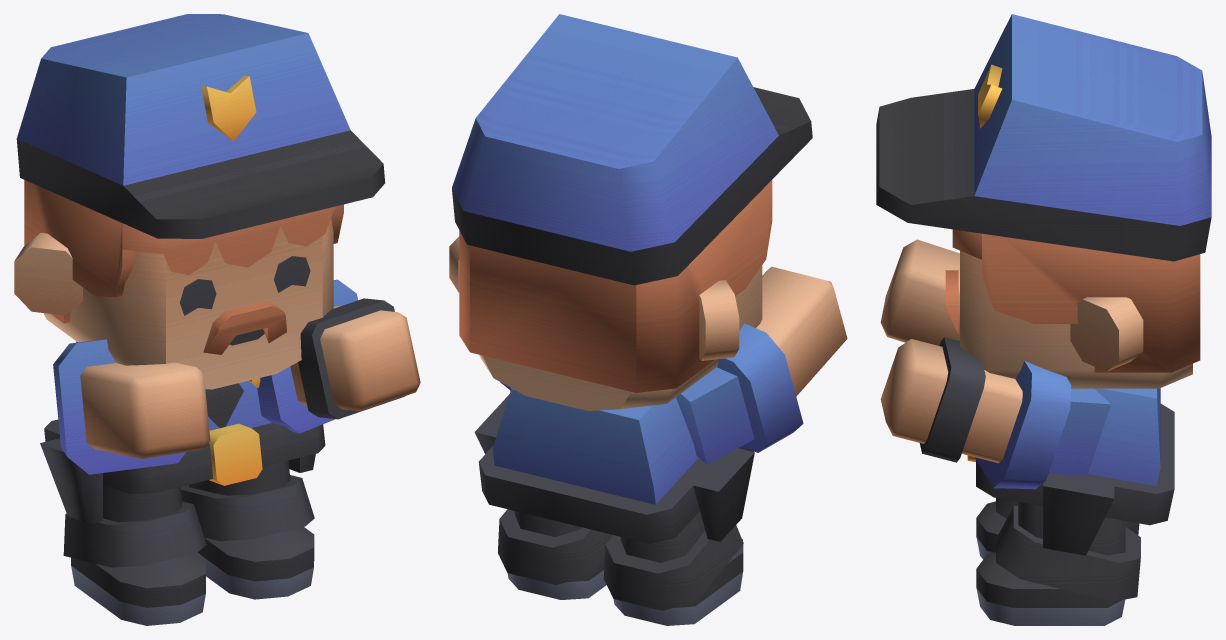
The model's file is character-male-c.glb.
The picture shows the model from 3 angles, left to right: view 1: azimuth 30°, elevation 25°; view 2: azimuth 150°, elevation 25°; view 3: azimuth 270°, elevation 25°; orthographic projection. The views are drawn at different scales.
Parts seen in each view (by area): view 1: head-mesh, body-mesh; view 2: head-mesh, body-mesh; view 3: head-mesh, body-mesh.
Boxes of the visible parts, x1,y1,x2,y2 form: head-mesh: (14,14,385,389); body-mesh: (40,279,420,625); head-mesh: (449,14,812,410); body-mesh: (474,266,847,625); head-mesh: (876,14,1211,388); body-mesh: (880,239,1174,625).
Bounding box in the file's own units: 0.4731 × 0.7947 × 0.4607.
Materials: 1 (1 with a texture image).
